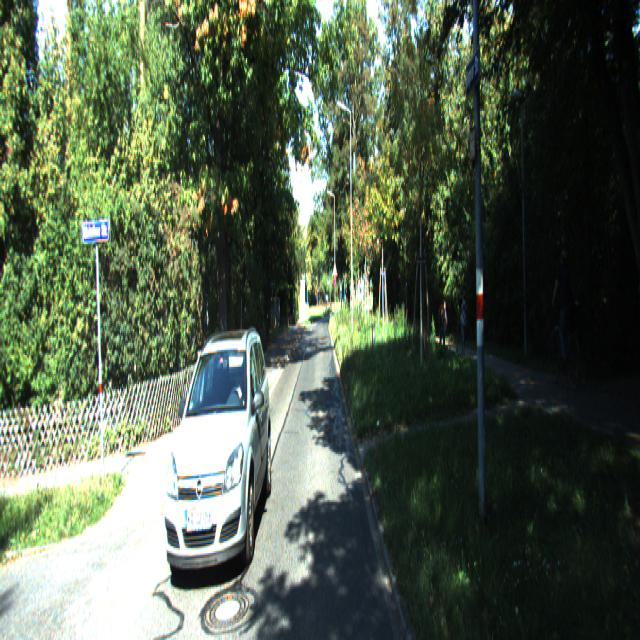Car: (161, 328, 273, 588)
